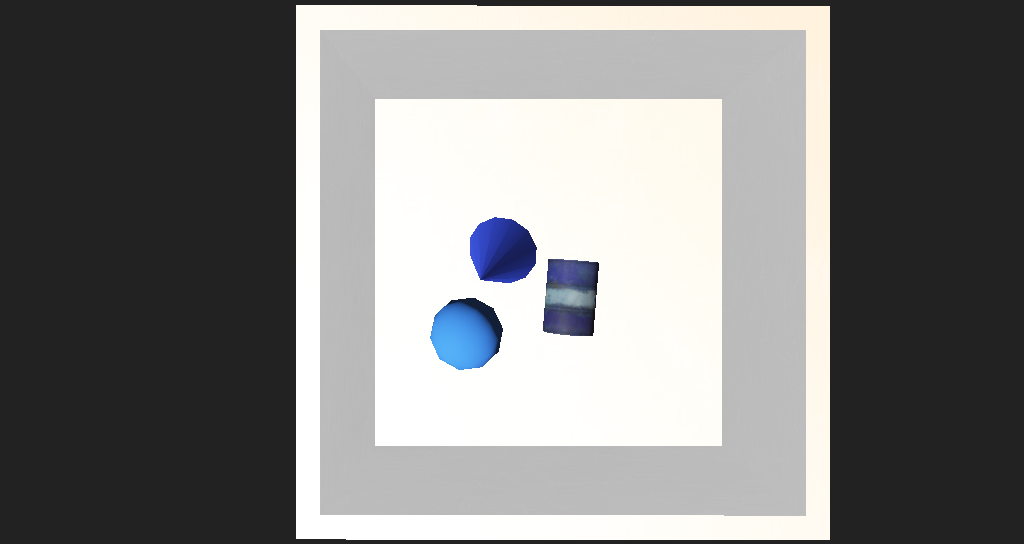cone: (499, 258, 552, 305)
cylinder: (404, 224, 499, 301)
sphere: (408, 282, 468, 329)
